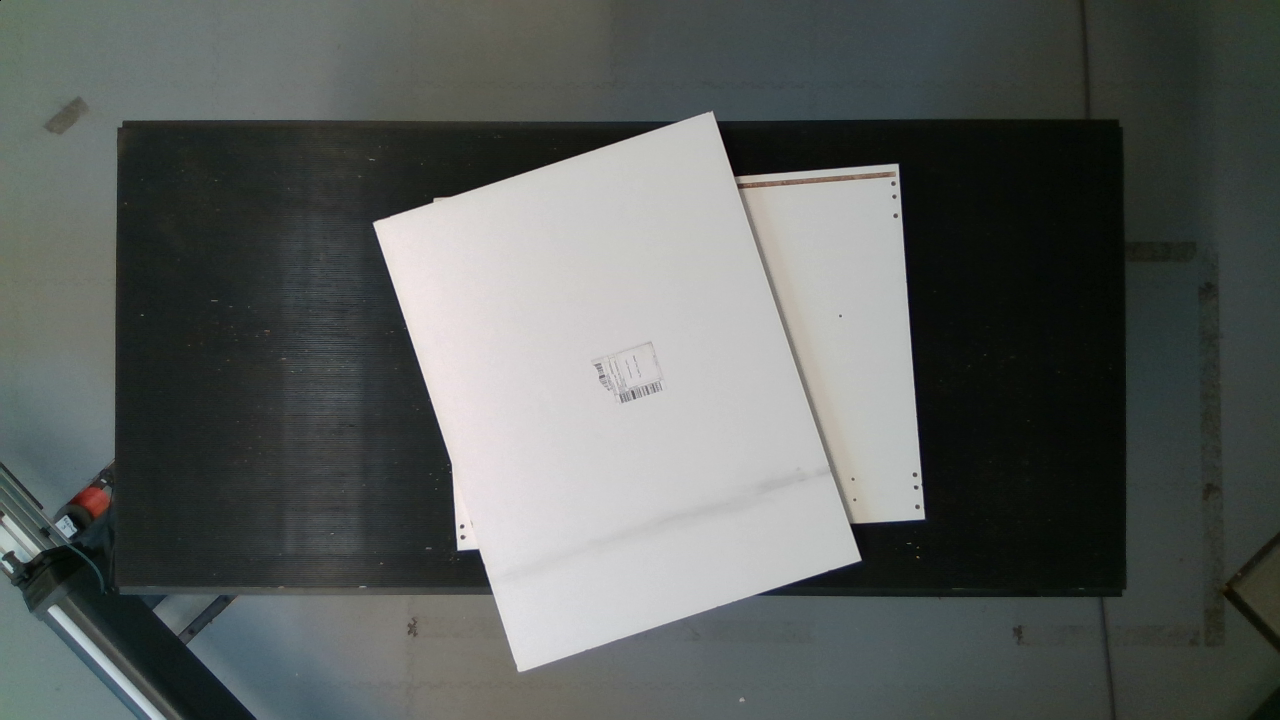barcode: (588, 337, 671, 410)
part2: (367, 118, 882, 672)
